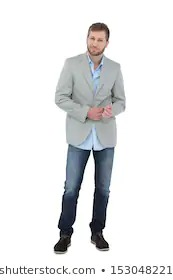F_M_suit jacket: (49, 47, 130, 154)
